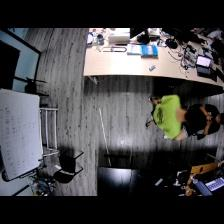normal: (146, 94, 189, 139), (194, 102, 224, 138)
